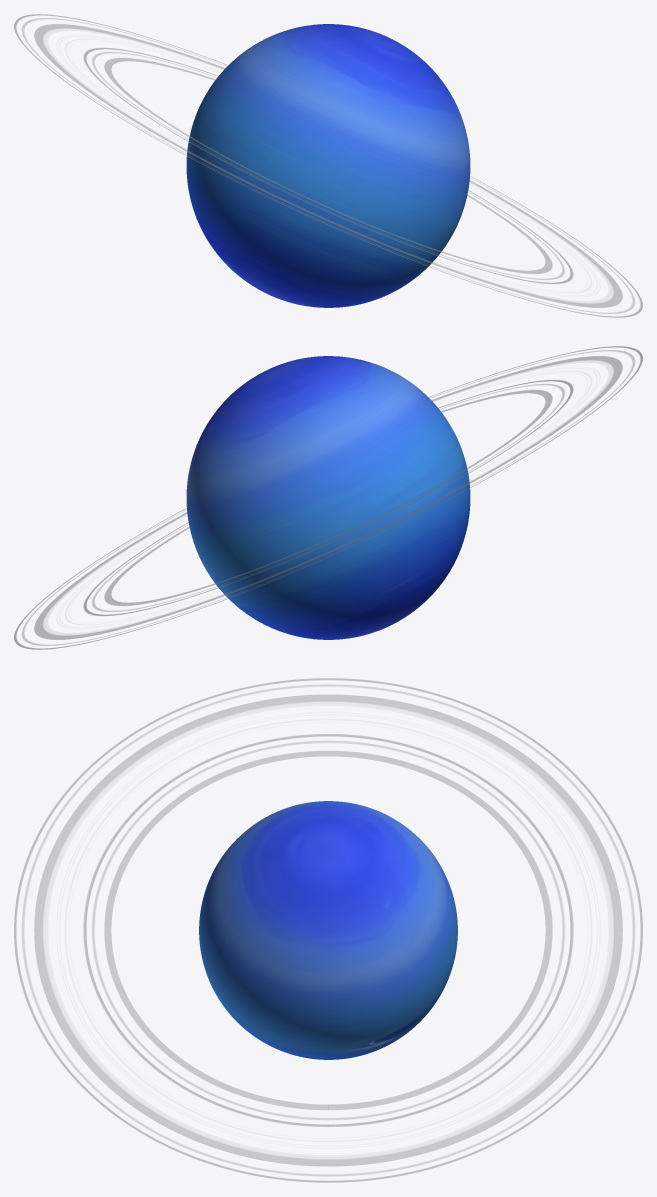
Rendered from neptune.glb.
3 views of the same model, one above another, from view 1: azimuth 30°, elevation 25°; view 2: azimuth 150°, elevation 25°; view 3: azimuth 270°, elevation 25° (orthographic). The views are drawn at different scales.
Parts seen in each view (by area): view 1: Surface, Rings; view 2: Surface, Rings; view 3: Surface, Rings.
Part boxes in pixels (x1=…): Surface: x1=186, y1=24, x2=470, y2=307; Rings: x1=14, y1=14, x2=642, y2=317; Surface: x1=186, y1=356, x2=470, y2=639; Rings: x1=14, y1=346, x2=642, y2=649; Surface: x1=199, y1=801, x2=457, y2=1059; Rings: x1=14, y1=678, x2=642, y2=1182.
Bounding box in the file's own units: 4.28 × 2.31 × 4.86.
2 materials, 2 textured.
